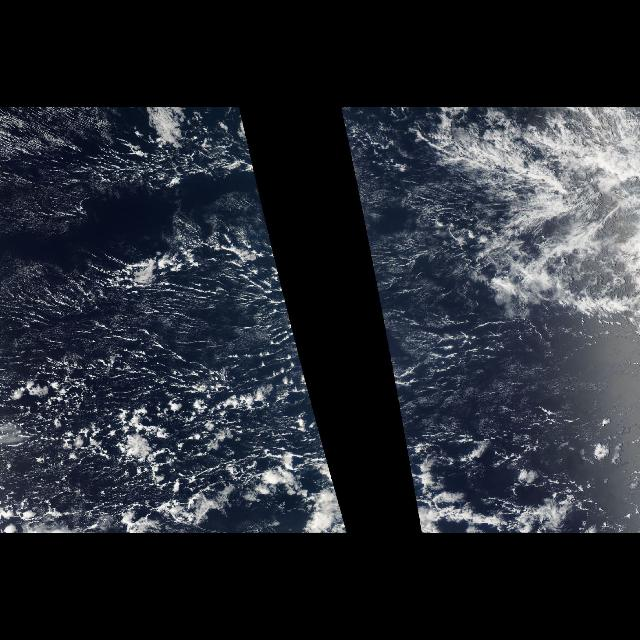Sugar: (8, 137, 348, 533), (346, 137, 640, 533)
